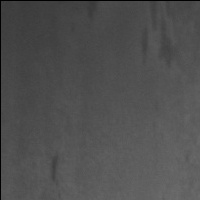inclusion: (136, 3, 180, 71), (45, 147, 65, 190)
